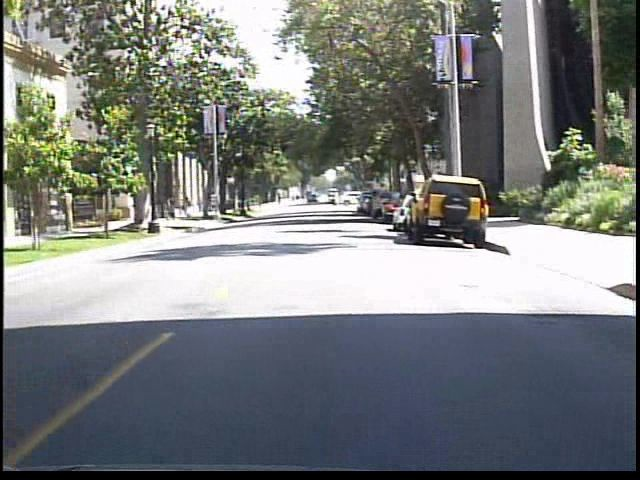person: (170, 193, 190, 226), (154, 190, 171, 224)
